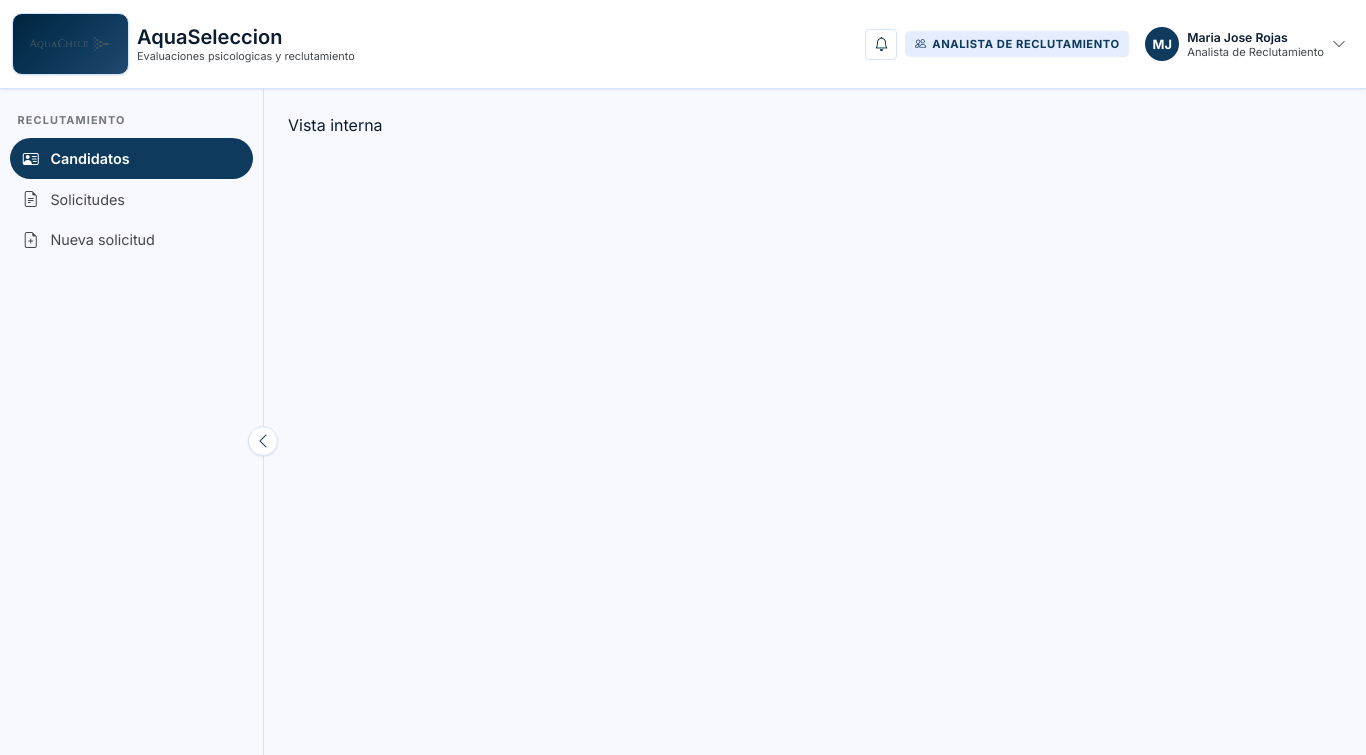
AppLayout: sidebar › plegar el sidebar agrega la clase collapsed
Step 1. Click the button named "Plegar menu lateral" → (263, 441), box [248,426,278,456]
(page scrolled)
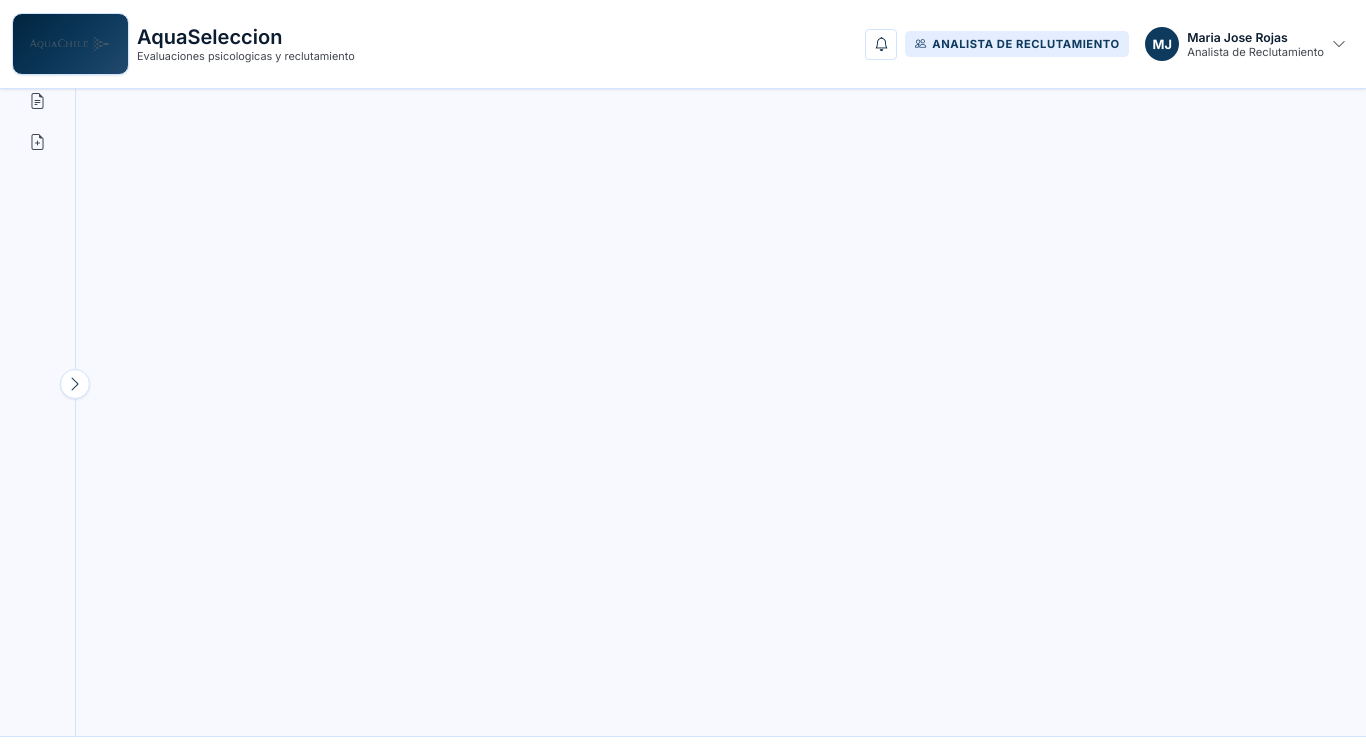
Check: the element named "Menu de navegacion por modulo" has class "collapsed", box [0,32,76,736]
